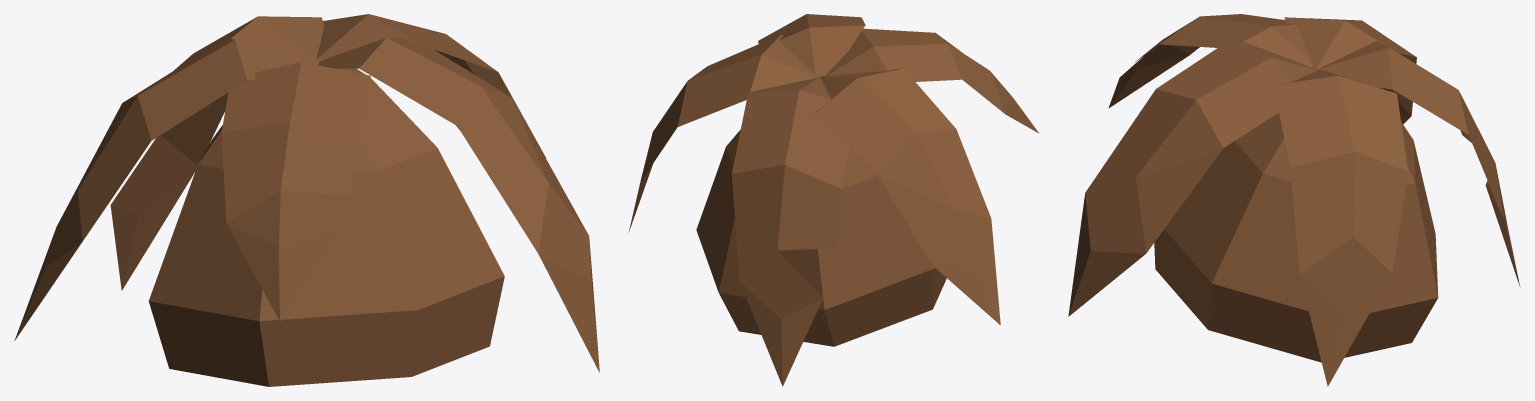
File: oasis-palm-small2.fbx
3 renders of one model, left to right at view 1: azimuth 30°, elevation 25°; view 2: azimuth 150°, elevation 25°; view 3: azimuth 270°, elevation 25°, orthographic. The views are drawn at different scales.
Parts seen in each view (by area): view 1: oasis-palm-small2; view 2: oasis-palm-small2; view 3: oasis-palm-small2.
Boxes of the visible parts, x1=… form: oasis-palm-small2: x1=14, y1=14, x2=599, y2=386; oasis-palm-small2: x1=628, y1=14, x2=1038, y2=386; oasis-palm-small2: x1=1068, y1=14, x2=1520, y2=386.
Size of the model in its own units: 3.15 by 1.98 by 2.88.
